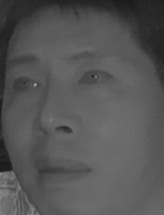eye: (75, 67, 116, 90), (8, 73, 43, 95)
mouth: (29, 154, 95, 192)
